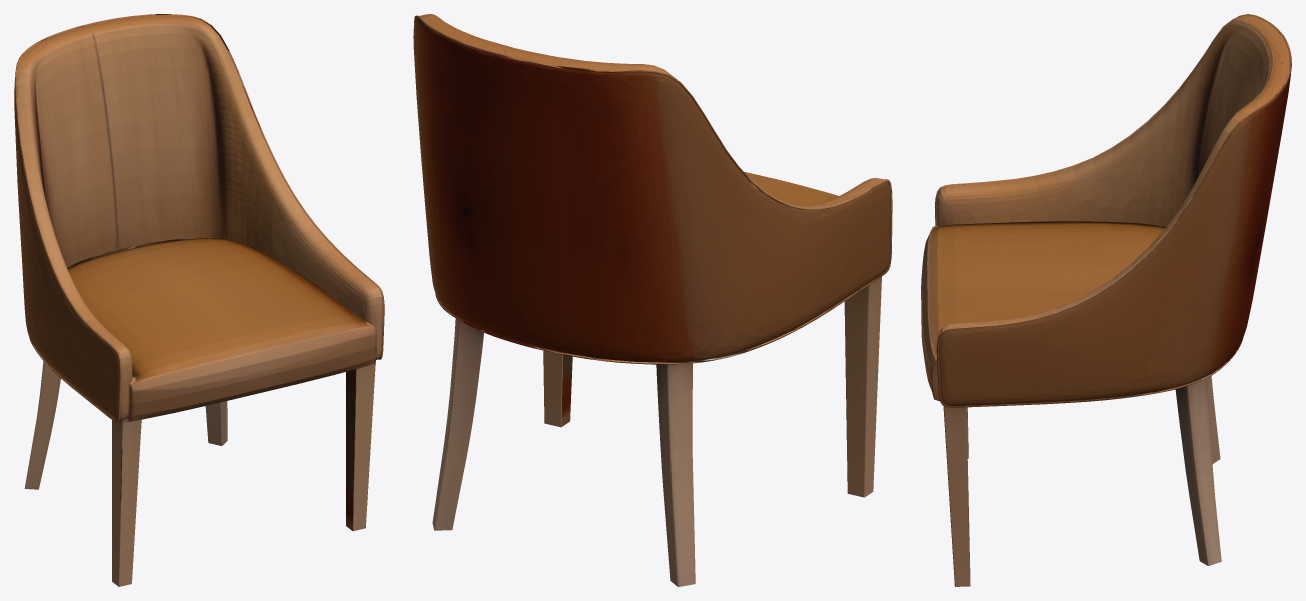
The model's file is edited_mesh.glb.
3 views of the same model, side by side, from view 1: azimuth 30°, elevation 25°; view 2: azimuth 150°, elevation 25°; view 3: azimuth 270°, elevation 25° (orthographic). The views are drawn at different scales.
Visible parts, largest first — view 1: solid_001_wire; view 2: solid_001_wire; view 3: solid_001_wire.
Part boxes in pixels (bbox=[...]): solid_001_wire: bbox=[14, 14, 384, 586]; solid_001_wire: bbox=[413, 14, 892, 586]; solid_001_wire: bbox=[921, 14, 1291, 586].
Bounding box in the file's own units: 0.9742 × 1.47 × 1.07.
Materials: 1 (1 with a texture image).
